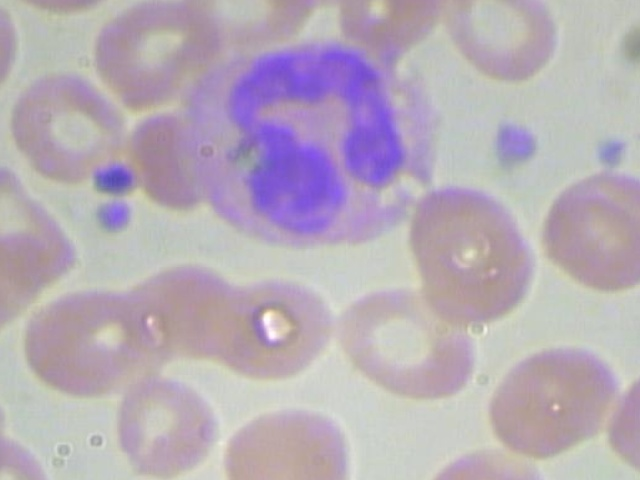Platelets: (478, 117, 548, 177), (86, 192, 139, 245), (591, 125, 634, 177), (88, 155, 137, 197)
RBC: (331, 275, 481, 413), (393, 180, 543, 318), (17, 286, 171, 401), (5, 64, 140, 191), (484, 341, 622, 462), (88, 0, 221, 115), (203, 273, 335, 382), (109, 366, 227, 480), (432, 0, 572, 88), (535, 184, 640, 296), (215, 393, 348, 480), (185, 0, 311, 65), (600, 360, 640, 480)
WBC: (175, 32, 441, 254)
